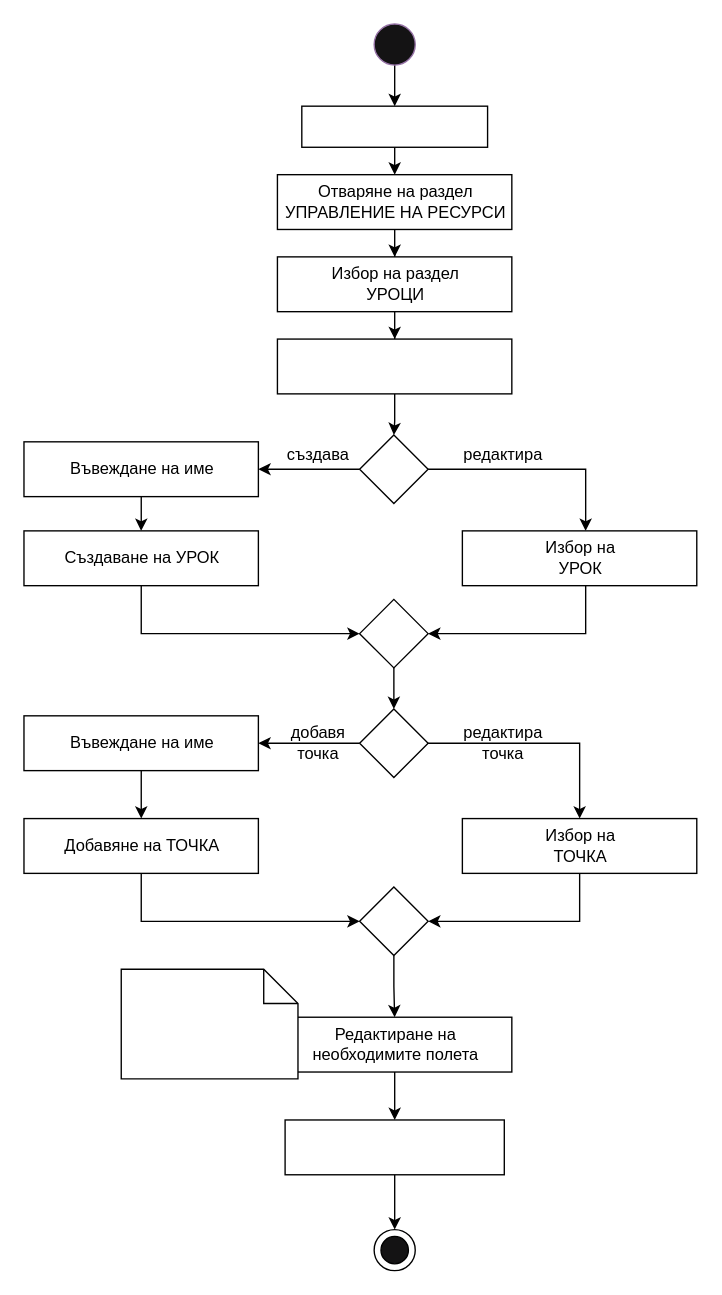
Image size: 722x1295. Some labels were removed from this diagram. Here are the shapes that lost their labels. From the top down, the centre of each, then its label:
At pixel 394 126: "Вход в системата".
At pixel 394 366: "Избор на ЕРА".
At pixel 209 1023: "Име, период, текст, изображения, видеа, интересни факти".
At pixel 394 1147: "Запазване на ТОЧКАТА".
